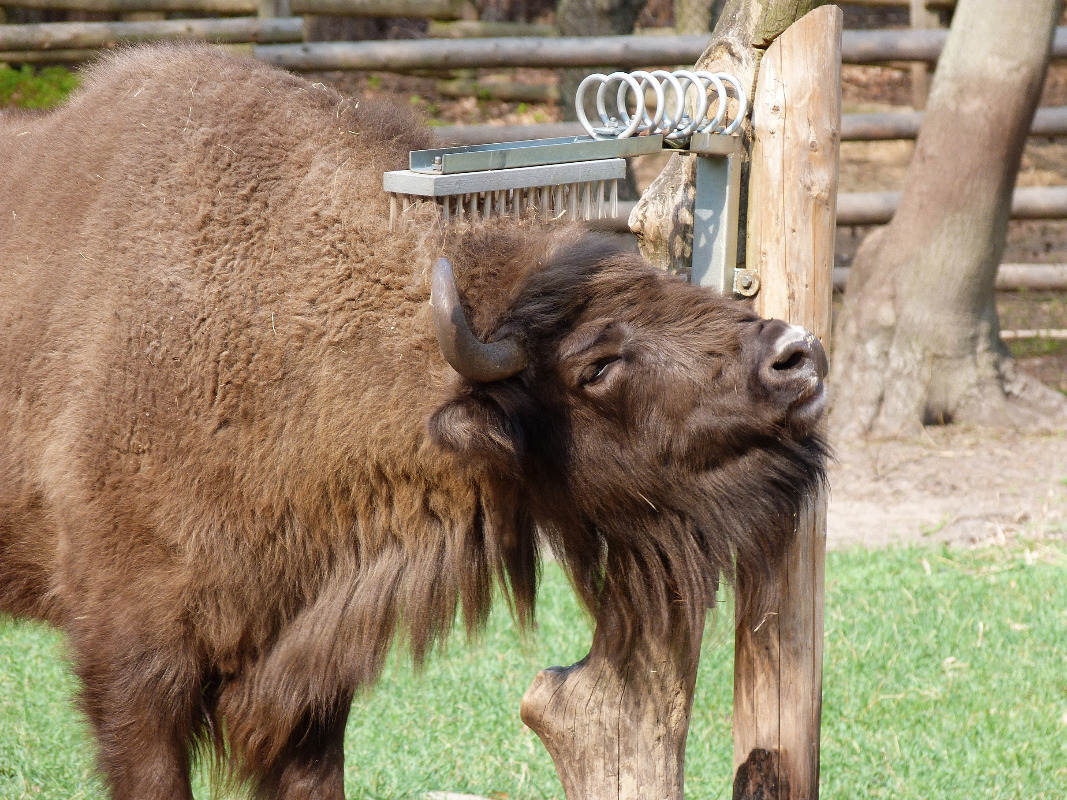zubr: (6, 33, 850, 800)
